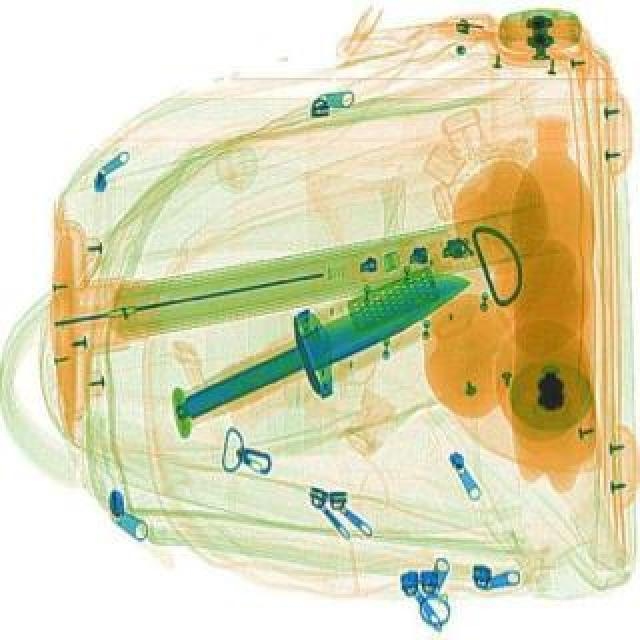knife: (172, 266, 480, 432)
